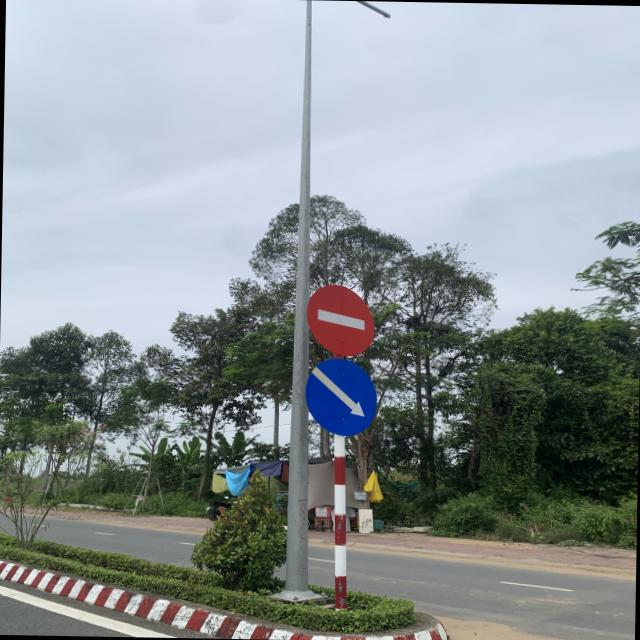Cam_Di_Nguoc_Chieu: (306, 284, 374, 356)
Chi_Huong_Di_Phai: (306, 358, 378, 434)
